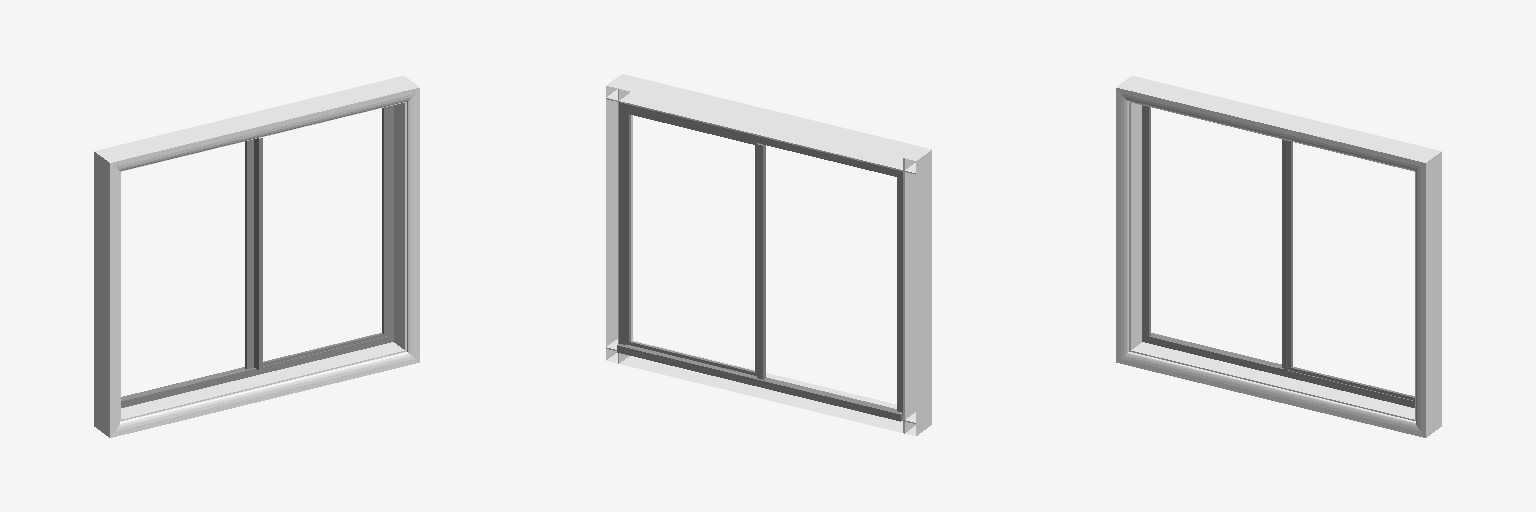
Rendered from window.obj.
3 renders of one model, left to right at view 1: azimuth 30°, elevation 25°; view 2: azimuth 150°, elevation 25°; view 3: azimuth 330°, elevation 25°, orthographic.
Parts seen in each view (by area): view 1: Window_15, Window_1, Window_22, Window_8, Window_26, Window_12, Window_34, Window_37, Window_33, Window_36, Window_31, Window_29; view 2: Window_15, Window_1, Window_22, Window_34, Window_8, Window_37, Window_35, Window_36, Window_38, Window_31, Window_26, Window_4 (+3 smaller); view 3: Window_15, Window_8, Window_22, Window_1, Window_26, Window_5, Window_34, Window_38, Window_32, Window_33, Window_29.
Boxes of the visible parts, box(x1,y1,x2,y2) form: Window_15: box(94, 76, 419, 170); Window_1: box(94, 152, 119, 437); Window_22: box(111, 352, 419, 437); Window_8: box(407, 89, 419, 361); Window_26: box(121, 342, 404, 419); Window_12: box(394, 103, 404, 349); Window_34: box(121, 335, 393, 407); Window_37: box(245, 139, 253, 369); Window_33: box(255, 138, 262, 370); Window_36: box(387, 105, 393, 336); Window_31: box(382, 107, 386, 333); Window_29: box(254, 333, 386, 367); Window_15: box(606, 74, 931, 172); Window_1: box(905, 150, 931, 435); Window_22: box(606, 353, 915, 435); Window_34: box(617, 344, 902, 421); Window_8: box(606, 86, 617, 359); Window_37: box(757, 143, 765, 379); Window_35: box(619, 102, 902, 178); Window_36: box(619, 110, 626, 344); Window_38: box(897, 177, 902, 412); Window_31: box(626, 114, 630, 341); Window_26: box(607, 339, 915, 422); Window_4: box(908, 160, 912, 429); Window_15: box(1116, 76, 1441, 170); Window_8: box(1416, 152, 1441, 437); Window_22: box(1116, 352, 1424, 437); Window_1: box(1116, 89, 1128, 361); Window_26: box(1131, 342, 1414, 419); Window_5: box(1131, 103, 1141, 349); Window_34: box(1142, 333, 1414, 407); Window_38: box(1142, 105, 1150, 336); Window_32: box(1288, 141, 1292, 367); Window_33: box(1284, 140, 1287, 372); Window_29: box(1288, 367, 1414, 400).
Bounding box in the file's own units: 161 × 136 × 16.65.